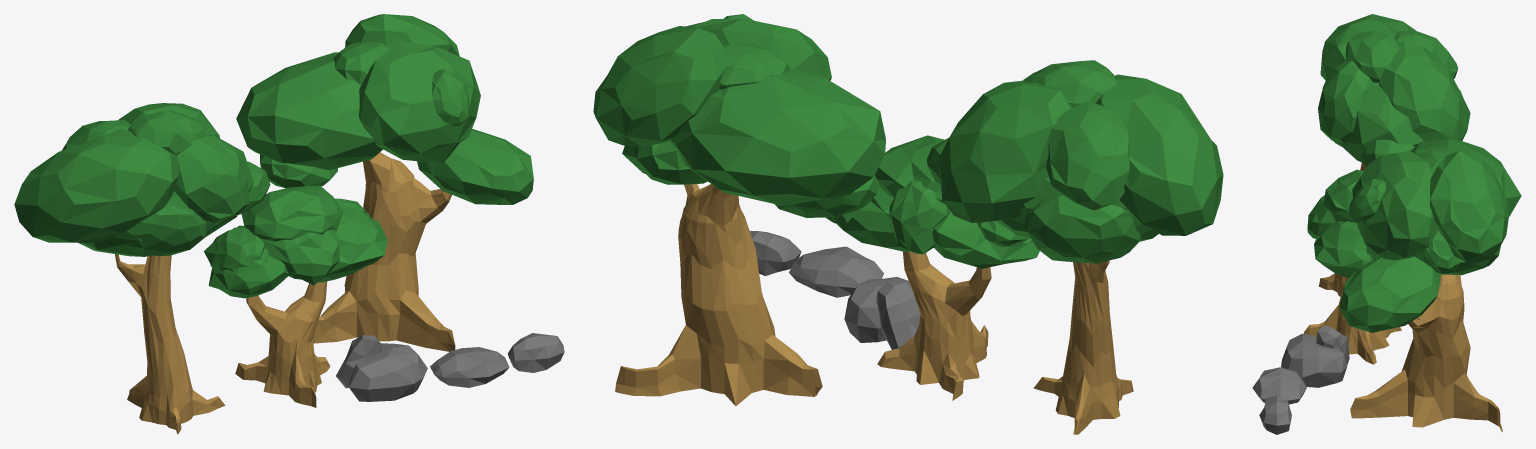
The model's file is gamejam signal 27 trees and rocks.fbx.
3 views of the same model, side by side, from view 1: azimuth 30°, elevation 25°; view 2: azimuth 150°, elevation 25°; view 3: azimuth 270°, elevation 25° (orthographic). The views are drawn at different scales.
Visible parts, largest first — view 1: Tree_1, Tree_2, Tree_3, Rock_1, Rock_3, Rock_2; view 2: Tree_1, Tree_2, Tree_3, Rock_1, Rock_3, Rock_2; view 3: Tree_1, Tree_2, Tree_3, Rock_1, Rock_3, Rock_2.
Boxes of the visible parts, x1,y1,x2,y2 form: Tree_1: [236, 14, 533, 351]; Tree_2: [14, 103, 270, 434]; Tree_3: [204, 185, 387, 407]; Rock_1: [336, 335, 427, 401]; Rock_3: [430, 347, 509, 387]; Rock_2: [507, 333, 564, 372]; Tree_1: [593, 14, 885, 405]; Tree_2: [927, 60, 1223, 434]; Tree_3: [825, 135, 1039, 400]; Rock_1: [844, 277, 920, 349]; Rock_3: [789, 246, 883, 297]; Rock_2: [750, 231, 801, 275]; Tree_1: [1339, 138, 1521, 432]; Tree_2: [1318, 14, 1470, 296]; Tree_3: [1304, 169, 1401, 364]; Rock_1: [1281, 325, 1349, 387]; Rock_3: [1252, 367, 1306, 404]; Rock_2: [1259, 395, 1291, 434].
Bounding box in the file's own units: 4.47 × 2.6 × 2.4.
